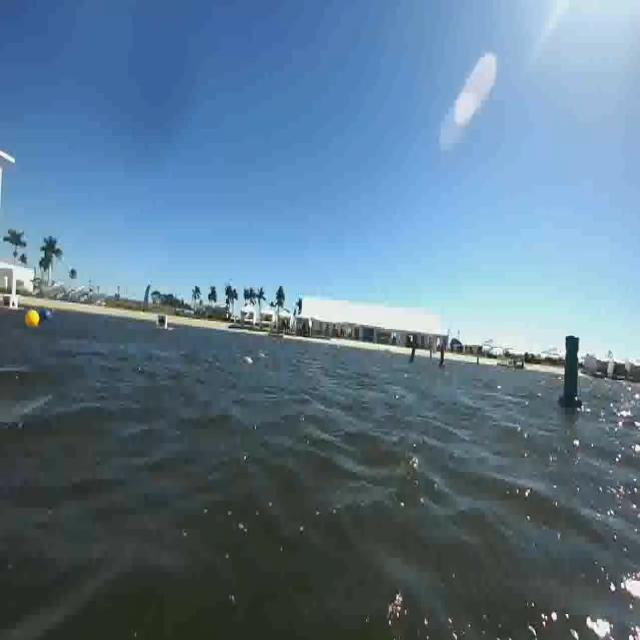green-column-buoy: (560, 333, 583, 411)
yellow-buoy: (25, 309, 41, 331)
